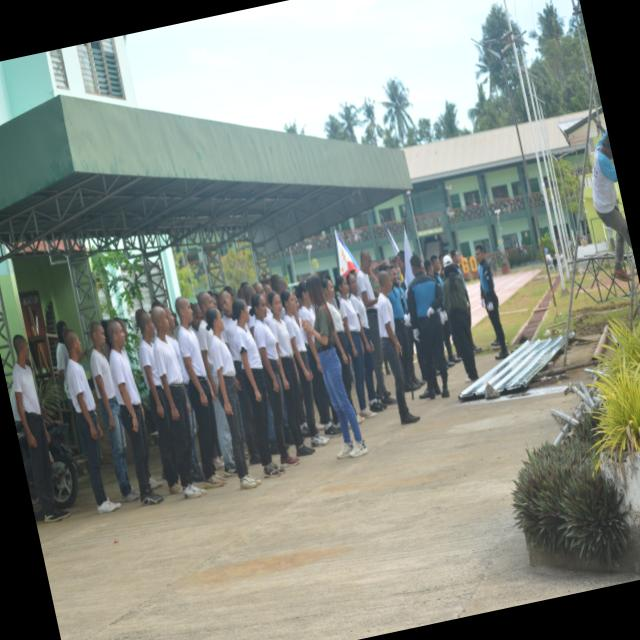person: (300, 276, 366, 459), (11, 335, 68, 522), (150, 306, 205, 498), (106, 320, 163, 505), (63, 331, 119, 513), (206, 308, 260, 490), (174, 297, 224, 489), (231, 299, 283, 478), (89, 323, 139, 502), (135, 310, 182, 494), (249, 294, 298, 466), (266, 291, 313, 457), (280, 290, 328, 447), (218, 290, 260, 464), (294, 282, 339, 435), (376, 271, 418, 425), (407, 255, 448, 399), (356, 250, 394, 405), (592, 134, 631, 282), (335, 275, 375, 419), (346, 272, 386, 412), (442, 256, 478, 382), (321, 278, 353, 408), (474, 245, 508, 360), (197, 292, 218, 397), (449, 250, 462, 276)
